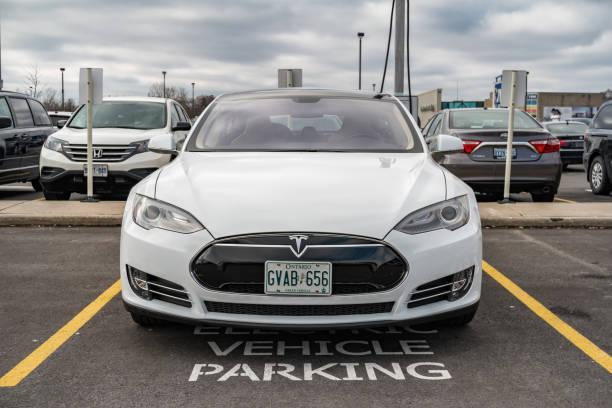licence: (262, 257, 334, 297)
